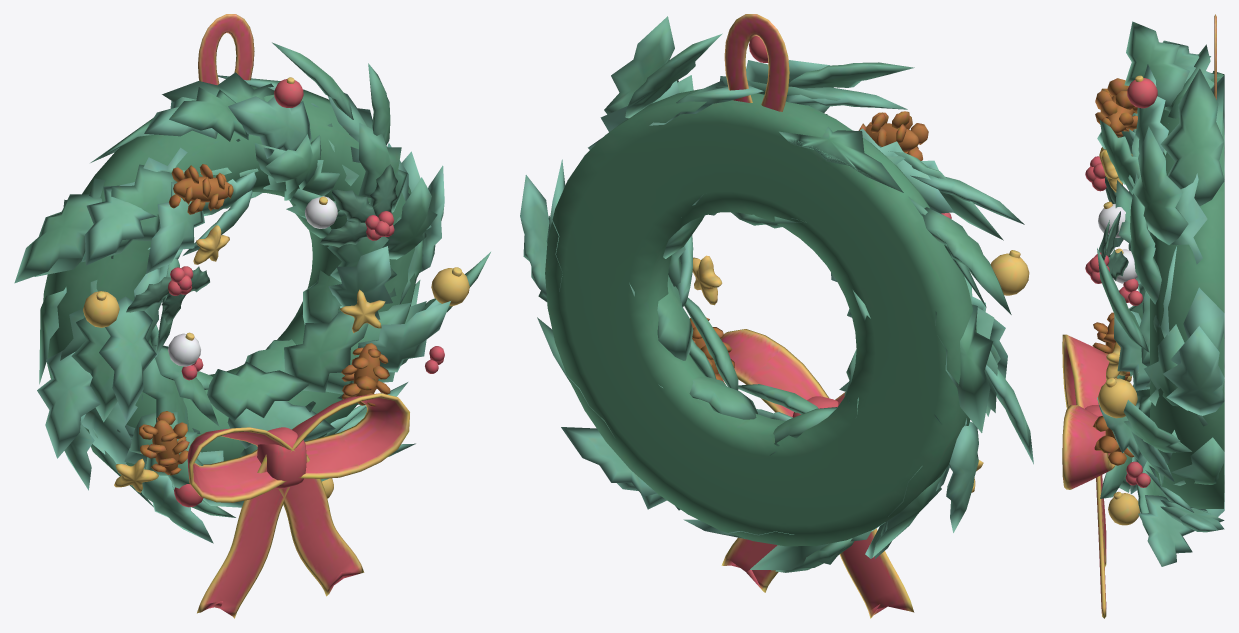
The model's file is christmas-wreath.glb.
3 renders of one model, left to right at view 1: azimuth 30°, elevation 25°; view 2: azimuth 150°, elevation 25°; view 3: azimuth 270°, elevation 25°, orthographic. The views are drawn at different scales.
Visible parts, largest first — view 1: christmas-wreath_body; view 2: christmas-wreath_body; view 3: christmas-wreath_body.
Part boxes in pixels (x1,y1,x2,y2): christmas-wreath_body: [14, 14, 490, 618]; christmas-wreath_body: [520, 14, 1033, 618]; christmas-wreath_body: [1062, 14, 1224, 618].
Bounding box in the file's own units: 0.5779 × 0.6961 × 0.178.
Materials: 1 (1 with a texture image).
